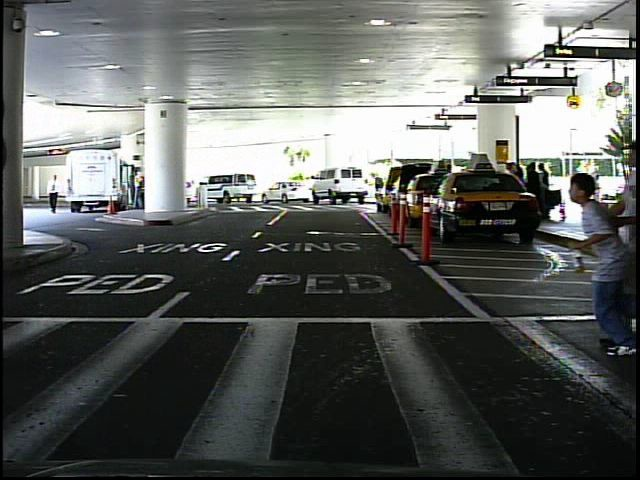person: (573, 163, 631, 366), (48, 173, 64, 217), (372, 171, 386, 201), (597, 172, 600, 218)
